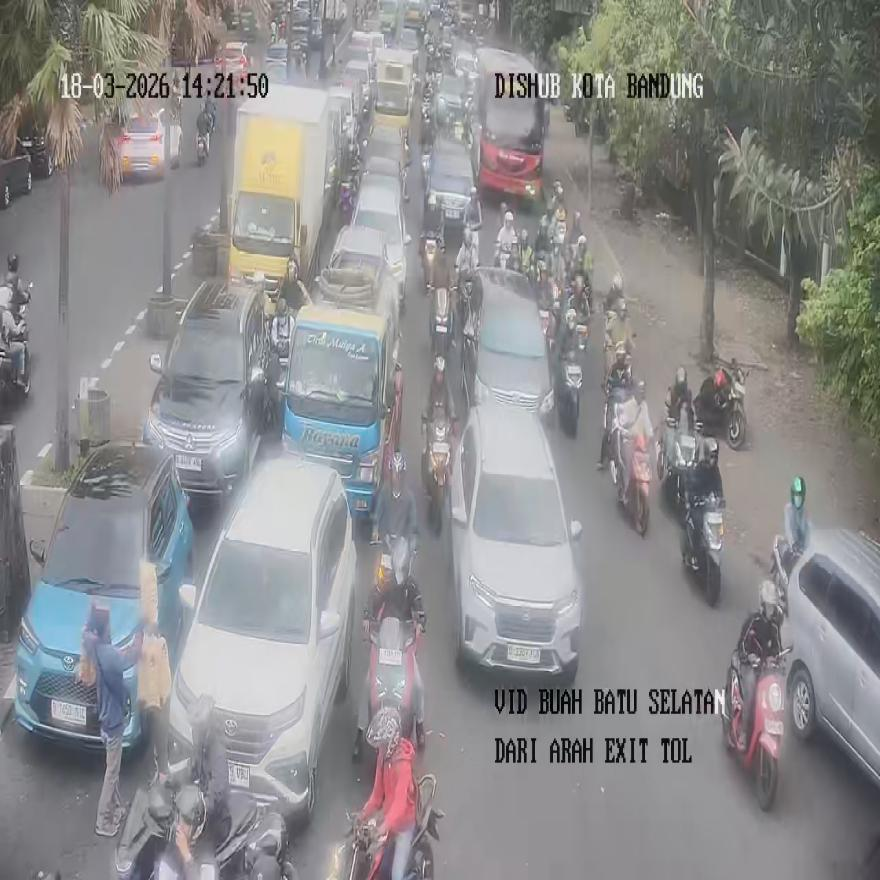Mobil: (169, 457, 357, 831), (14, 442, 195, 756), (450, 401, 583, 684), (279, 259, 402, 529), (144, 278, 271, 502), (783, 528, 880, 788)
Motor: (113, 744, 259, 880), (334, 772, 443, 880), (721, 646, 789, 812), (361, 612, 423, 761), (682, 491, 725, 608), (610, 421, 652, 536), (693, 360, 747, 448), (659, 401, 697, 516), (0, 280, 32, 396), (422, 416, 450, 534), (769, 536, 802, 618), (557, 350, 582, 435), (429, 284, 451, 360), (196, 120, 210, 165)
bus: (473, 46, 550, 206)
